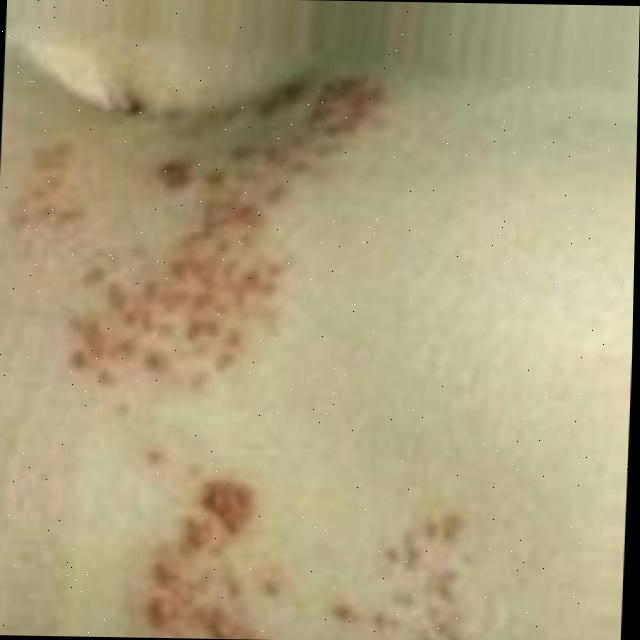Shingles: (31, 74, 397, 383), (142, 483, 486, 640)
